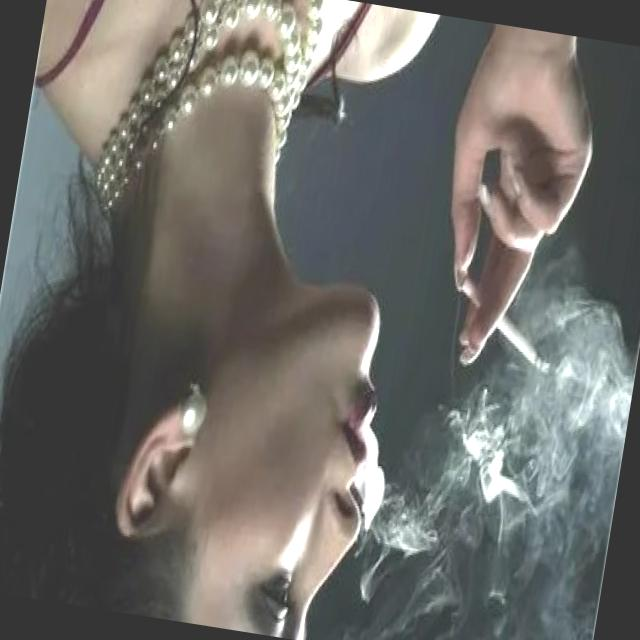smoke: (446, 272, 565, 380)
